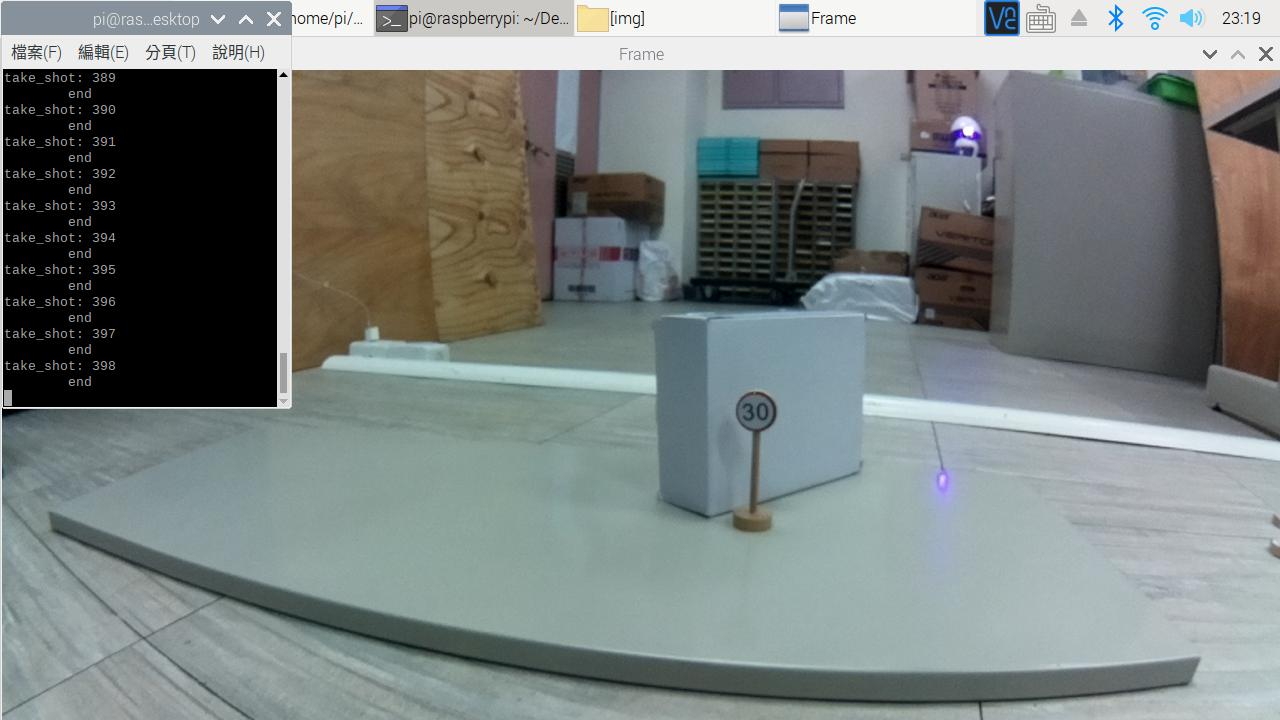Speed30: (725, 386, 798, 455)
